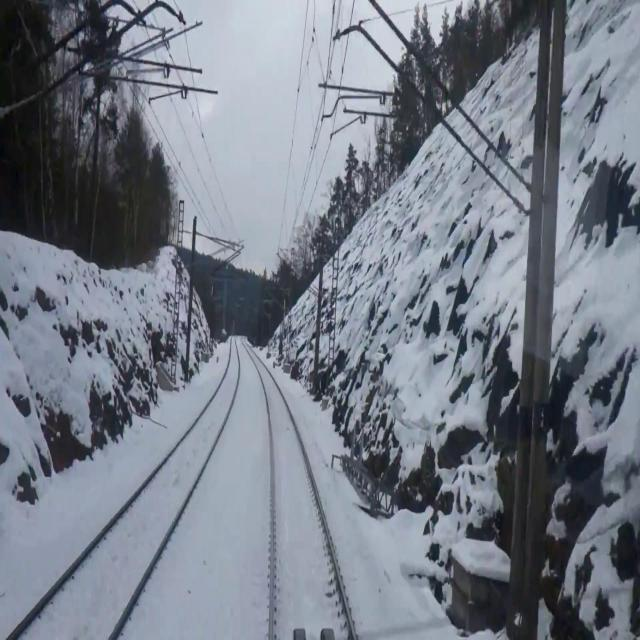rail-track: (13, 338, 237, 639), (251, 353, 352, 639)
